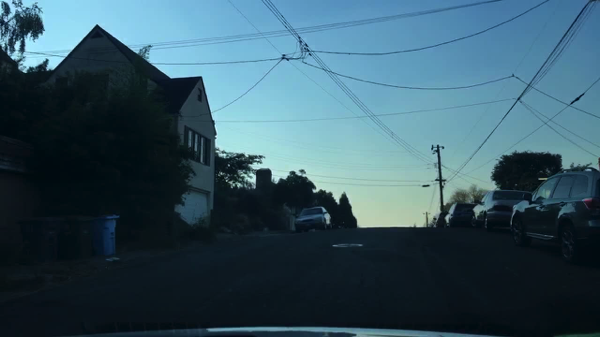car: (508, 166, 599, 264), (473, 189, 531, 235), (293, 206, 333, 232), (446, 200, 477, 226), (433, 211, 447, 228)
